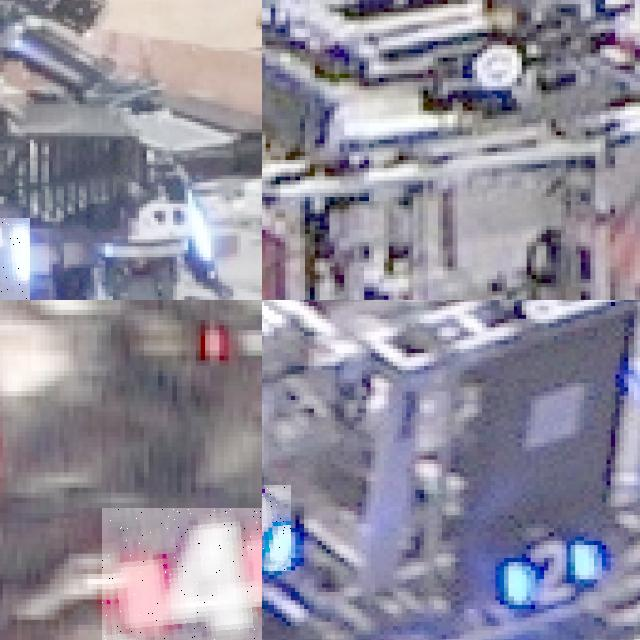B2: (504, 532, 598, 605), (262, 485, 290, 570)
R4: (102, 507, 262, 640)
